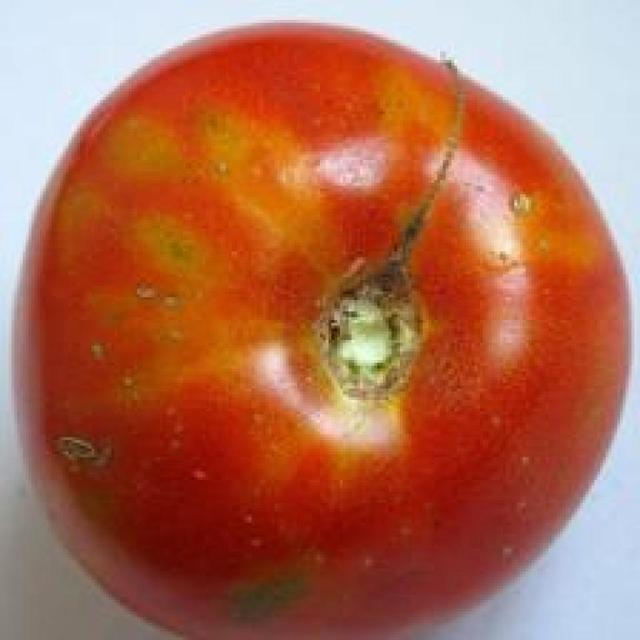Spotted wilt Virus Fruit: (9, 9, 418, 427)
